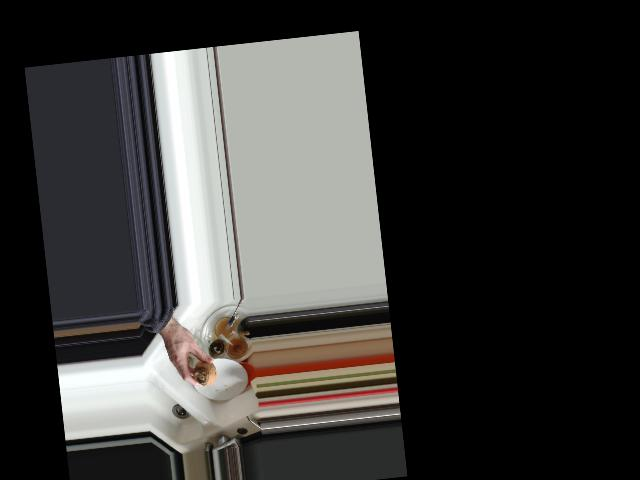sweet_potato: (190, 354, 218, 388)
